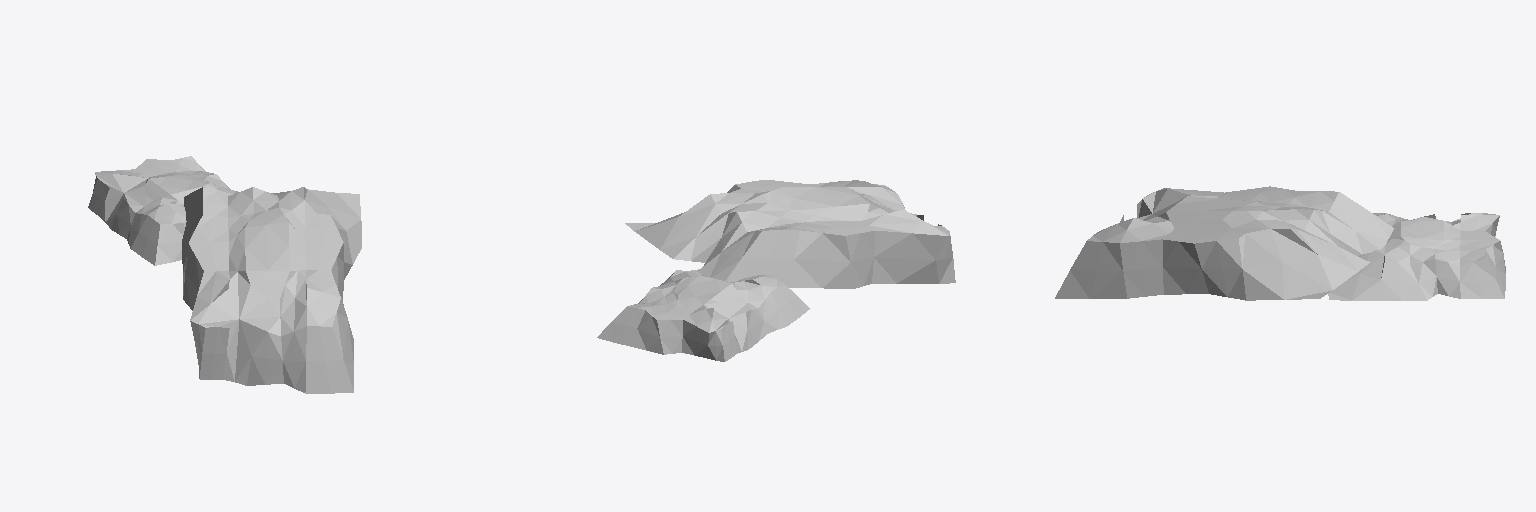
File: bigstones3.obj
3 renders of one model, left to right at view 1: azimuth 30°, elevation 25°; view 2: azimuth 150°, elevation 25°; view 3: azimuth 270°, elevation 25°, orthographic.
Visible parts, largest first — view 1: pCube55; view 2: pCube55; view 3: pCube55.
Boxes of the visible parts, x1,y1,x2,y2 form: pCube55: [88, 156, 361, 393]; pCube55: [597, 180, 955, 361]; pCube55: [1055, 186, 1505, 300].
Size of the model in its own units: 8.4 by 3.46 by 13.29.